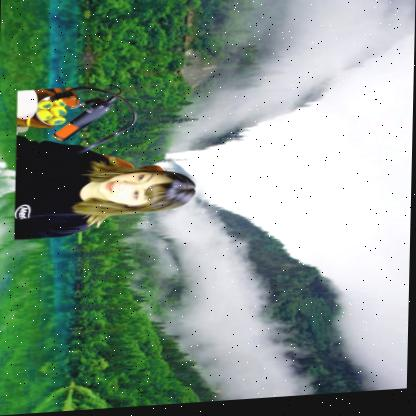streamer: (15, 125, 198, 241)
